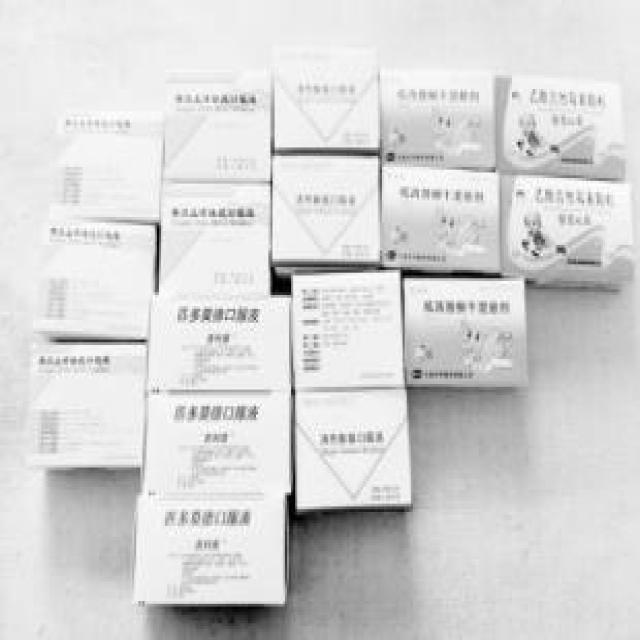box: (134, 491, 288, 607), (500, 178, 634, 292), (24, 345, 146, 469), (36, 216, 154, 344), (141, 390, 291, 490), (294, 387, 413, 510), (144, 294, 291, 393), (493, 73, 627, 180), (291, 269, 405, 394), (157, 182, 270, 301), (404, 279, 527, 387), (270, 153, 380, 272), (49, 113, 164, 225), (380, 171, 500, 274), (160, 71, 272, 180), (378, 69, 495, 171), (272, 46, 380, 154)
